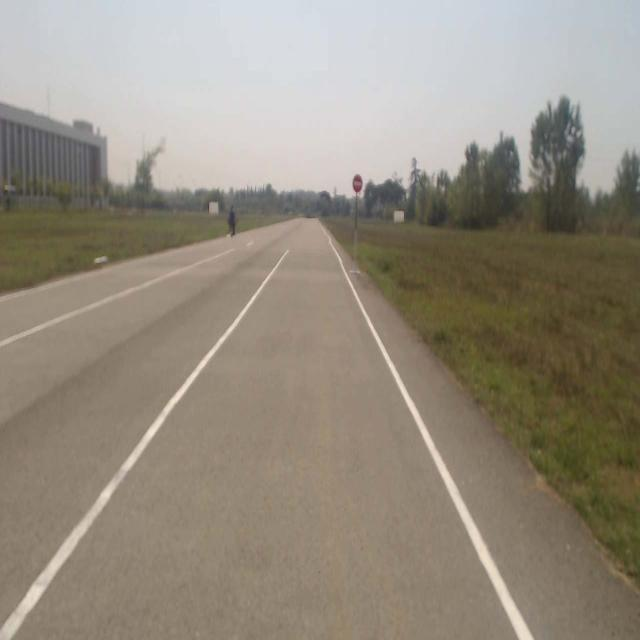girisyok: (353, 174, 363, 192)
